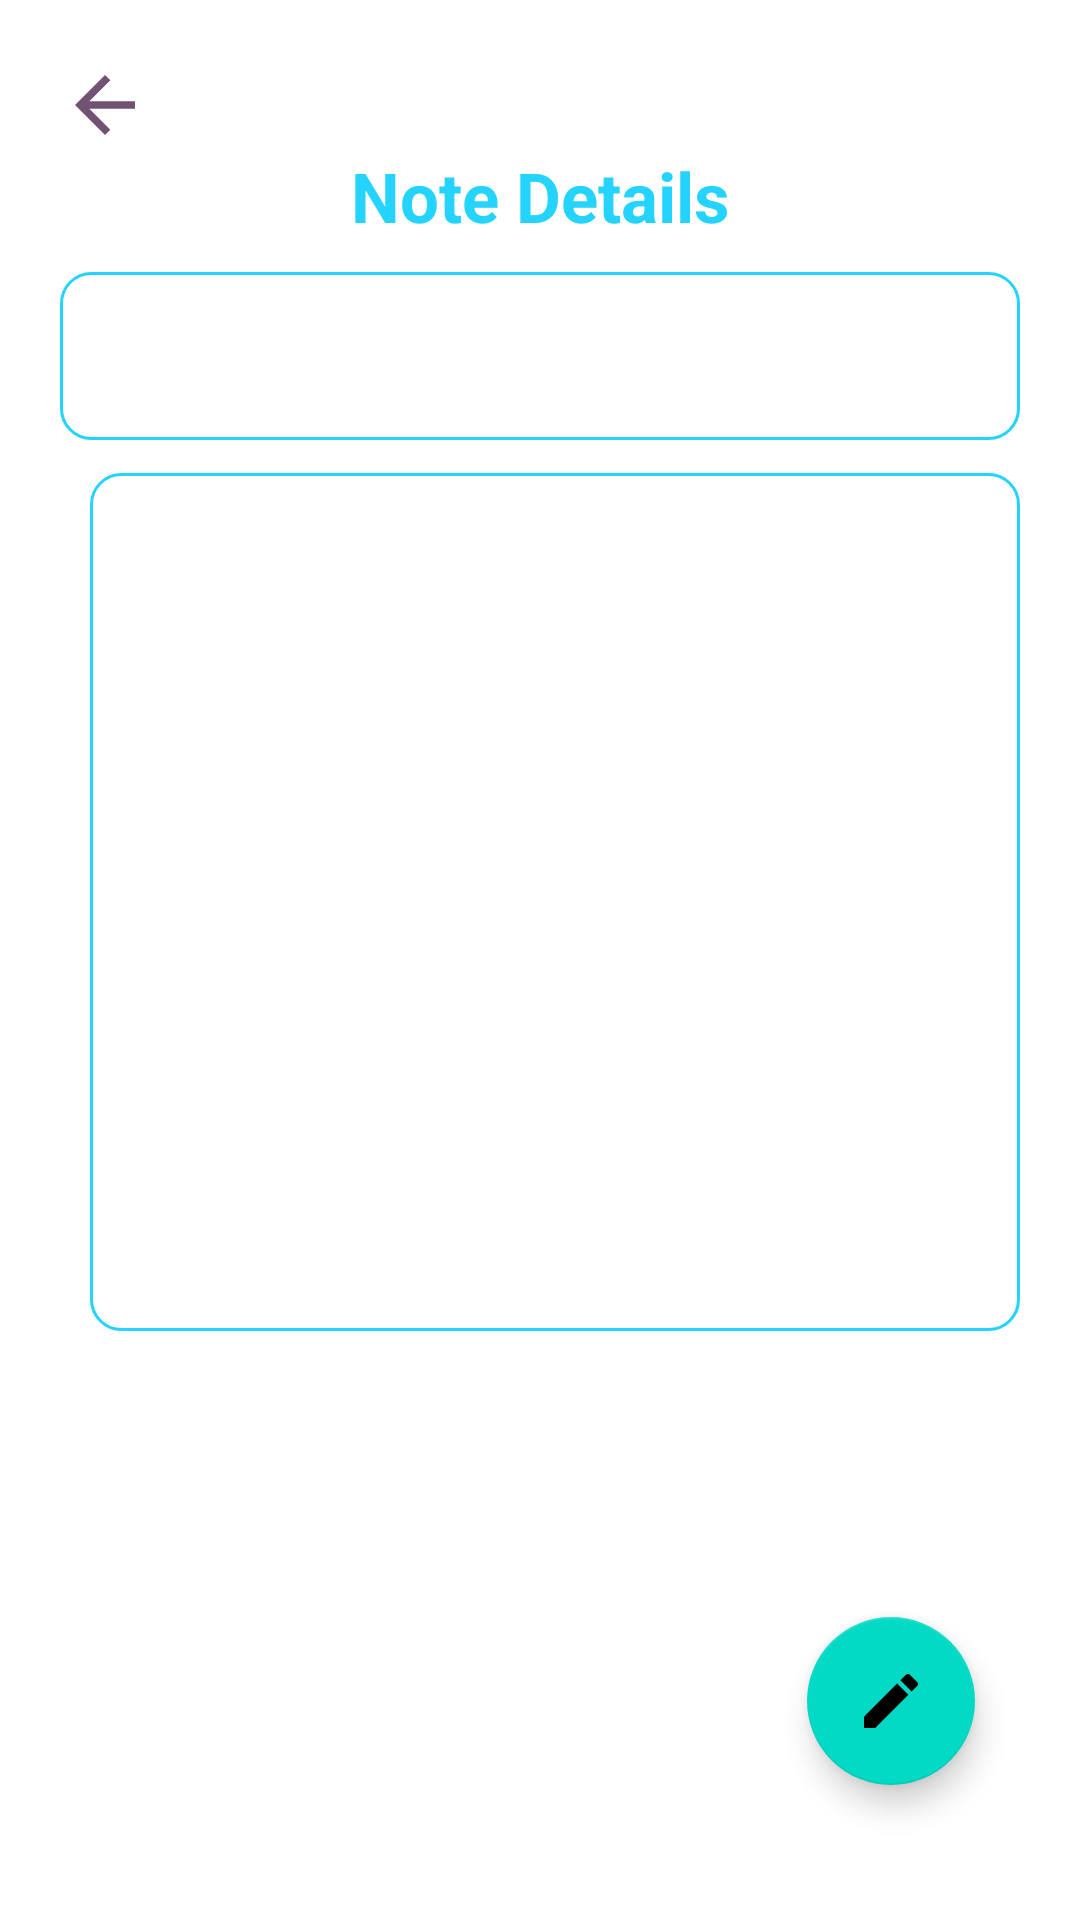

Icon click points for this 1080w x 1920h phone screenshot, format (x,y):
back: (105,105)
edit: (891,1701)
